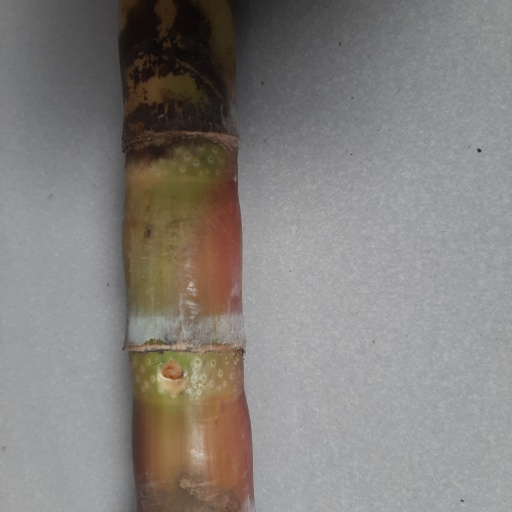Damage_Bud: (157, 357, 184, 381)
